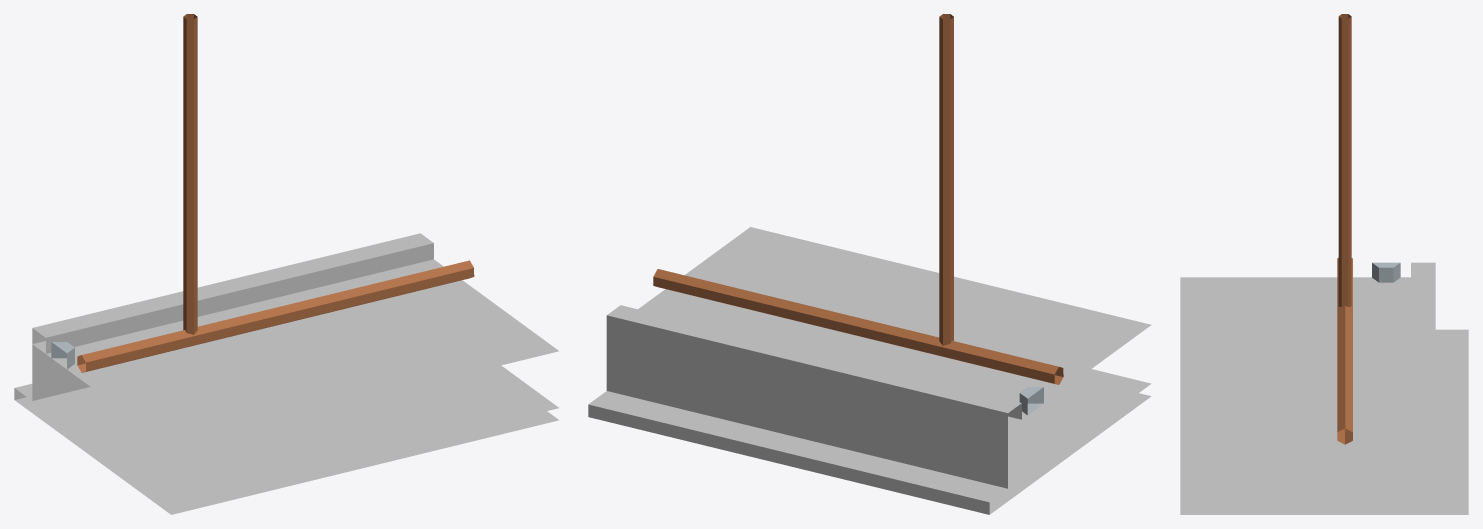
The model's file is cell_4.obj.
3 renders of one model, left to right at view 1: azimuth 30°, elevation 25°; view 2: azimuth 150°, elevation 25°; view 3: azimuth 270°, elevation 25°, orthographic. The views are drawn at different scales.
Size of the model in its own units: 1 by 1 by 0.7.
